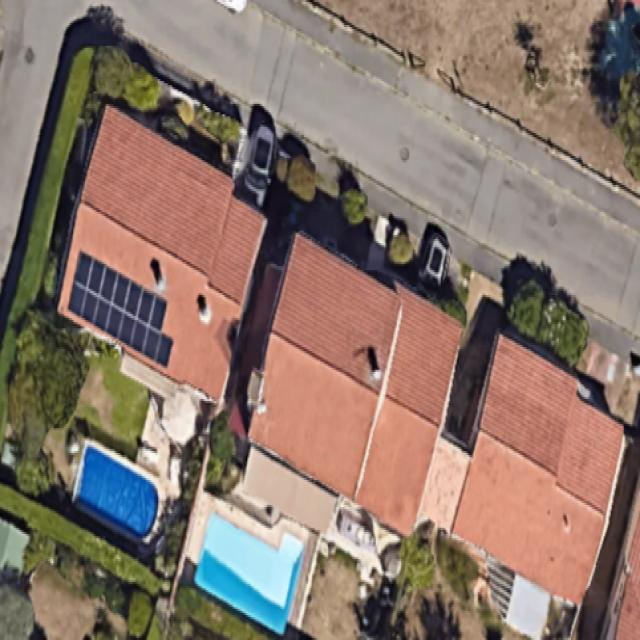maison: (234, 235, 475, 541), (39, 104, 282, 402), (426, 335, 640, 603)
